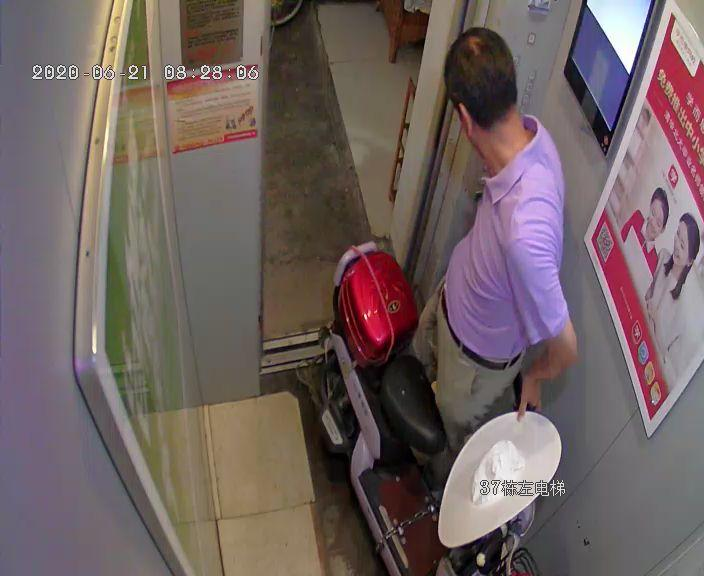Electric-bicycle: (311, 243, 535, 575)
